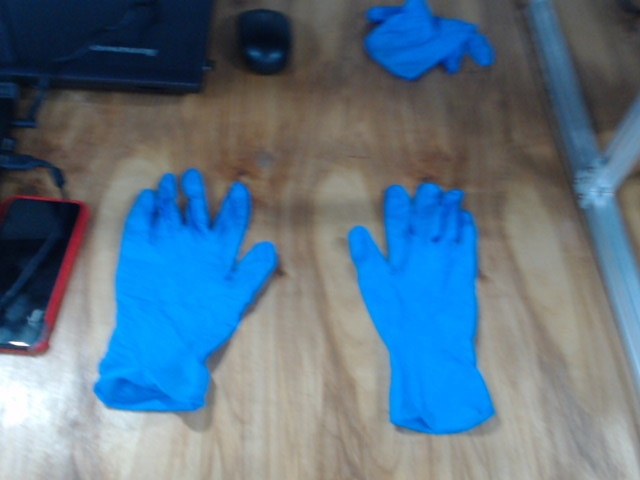medical_glove: (92, 169, 278, 410), (348, 182, 496, 434)
